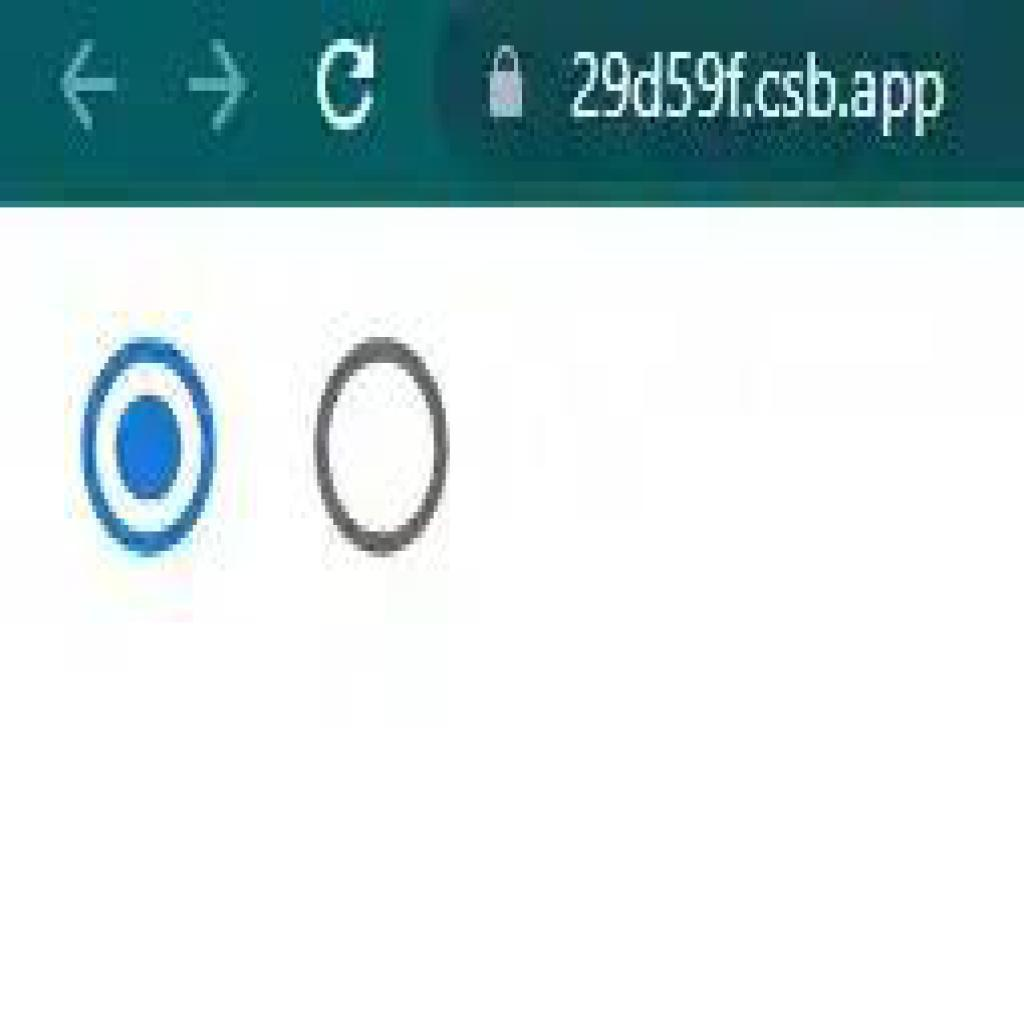icon: (186, 30, 254, 135), (311, 34, 380, 135), (57, 33, 125, 131), (481, 40, 535, 128)
radio: (75, 333, 220, 560), (314, 338, 452, 561)
